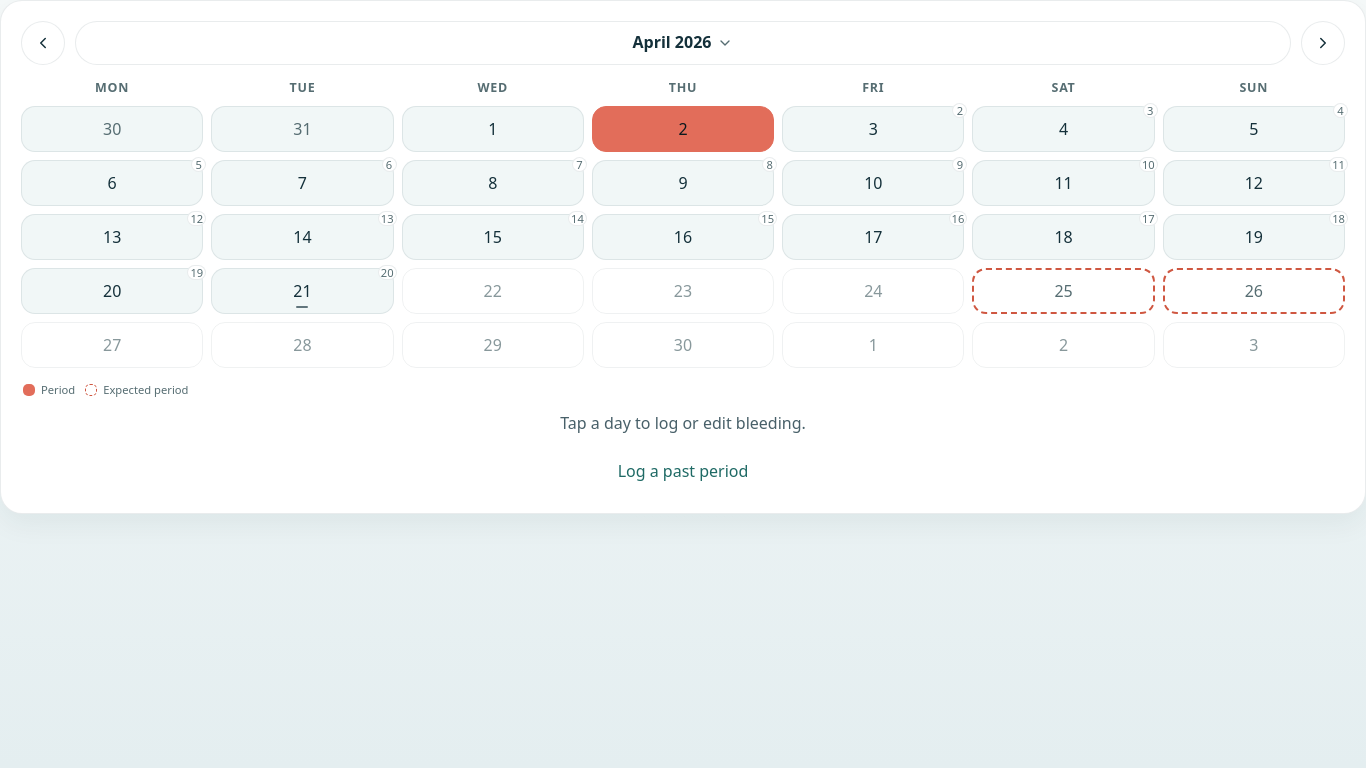
Test: CalendarScreen › navigates months with previous, next, and today actions
This screenshot has width=1366, height=768.
Click the button named "previous month" at (43, 43), box [21,21,65,65]
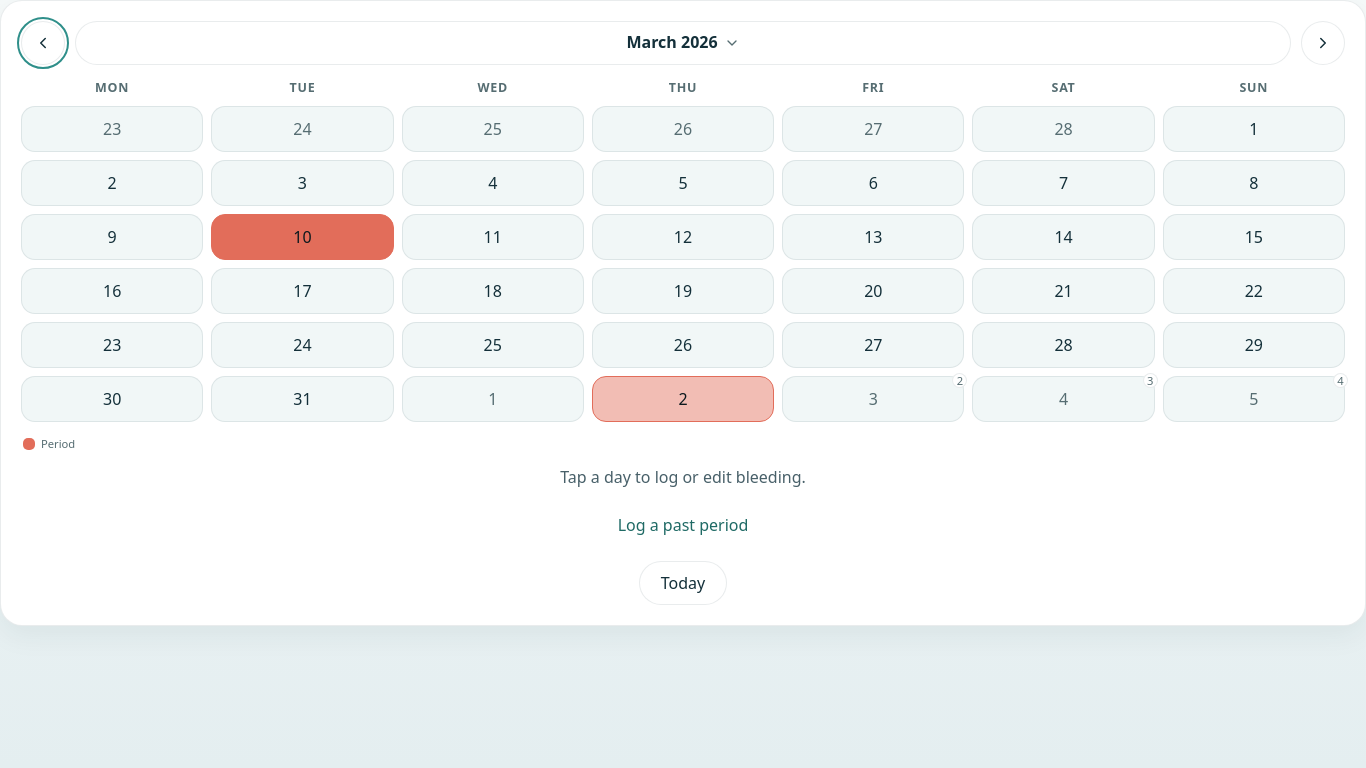
Result: the button "March 2026" is shown at [75,21,1291,65]
Click the button named "next month" at (1323, 43), box [1301,21,1345,65]
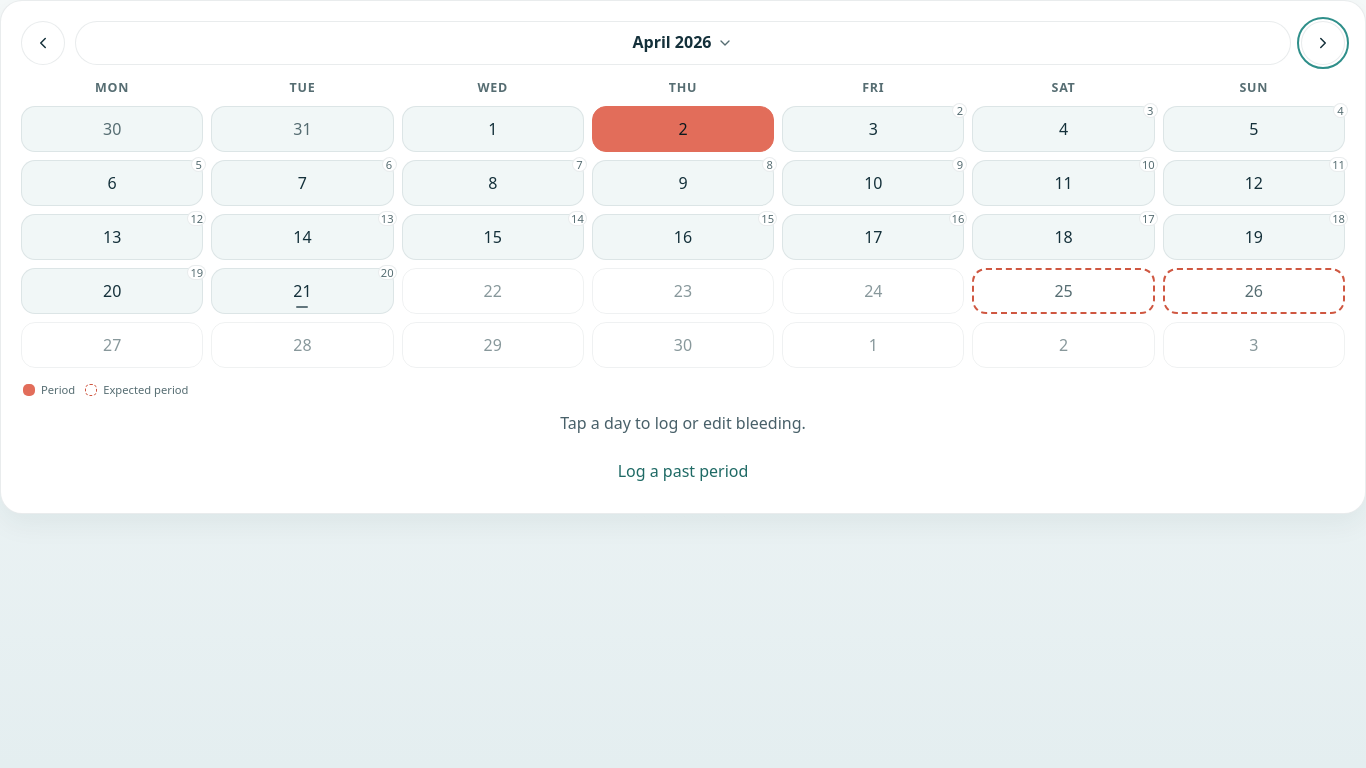
Click the button named "next month" at (1323, 43), box [1301,21,1345,65]
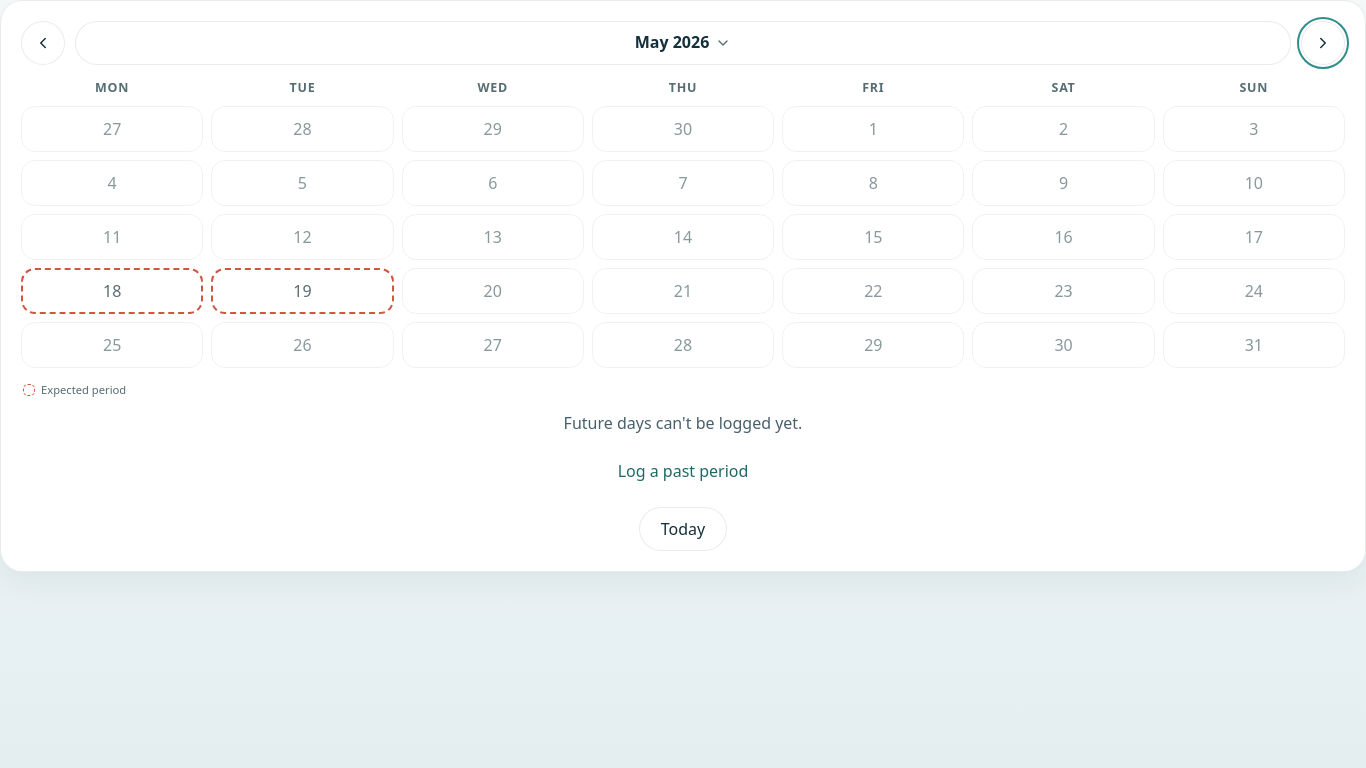
Result: the button "May 2026" is shown at [75,21,1291,65]
Click the button with aria-label "go to current month" at (683, 529), box [639,507,727,551]
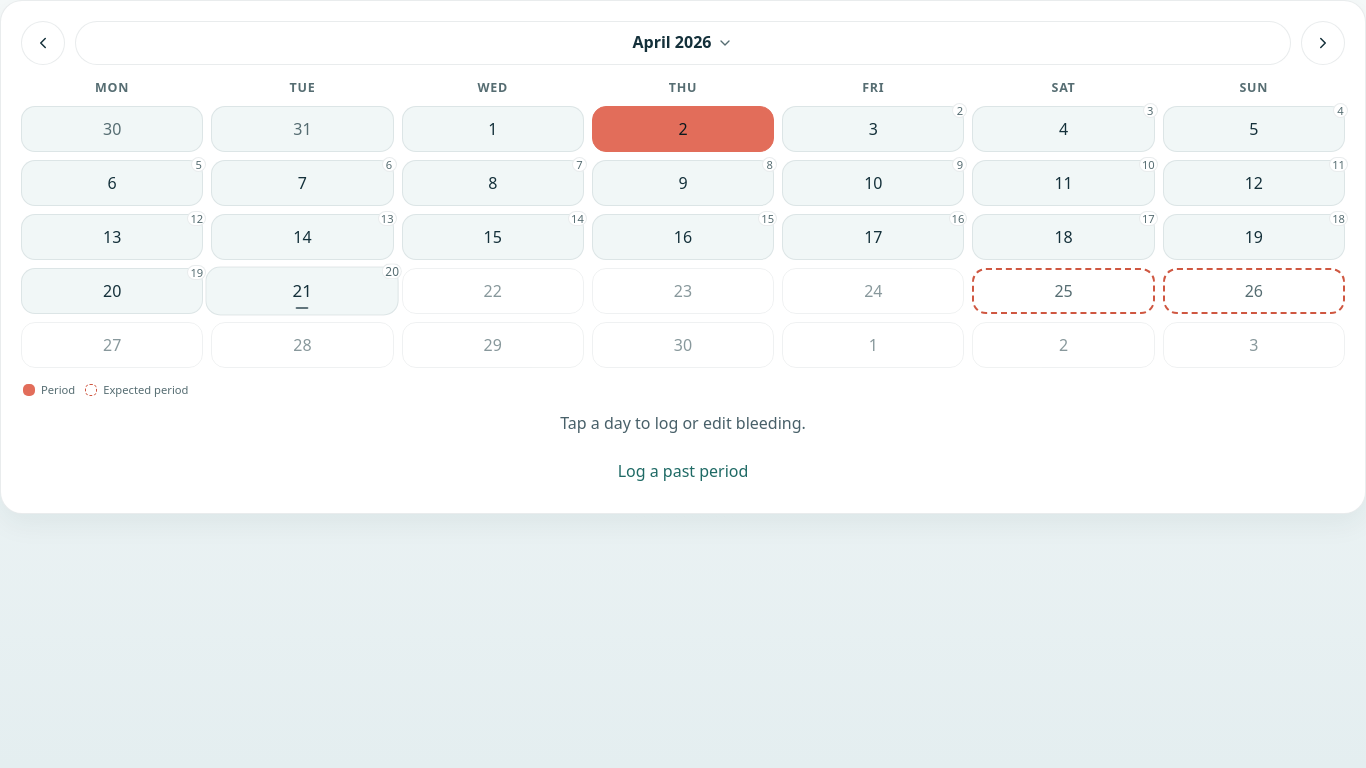
Result: the button "April 2026" is shown at [75,21,1291,65]
